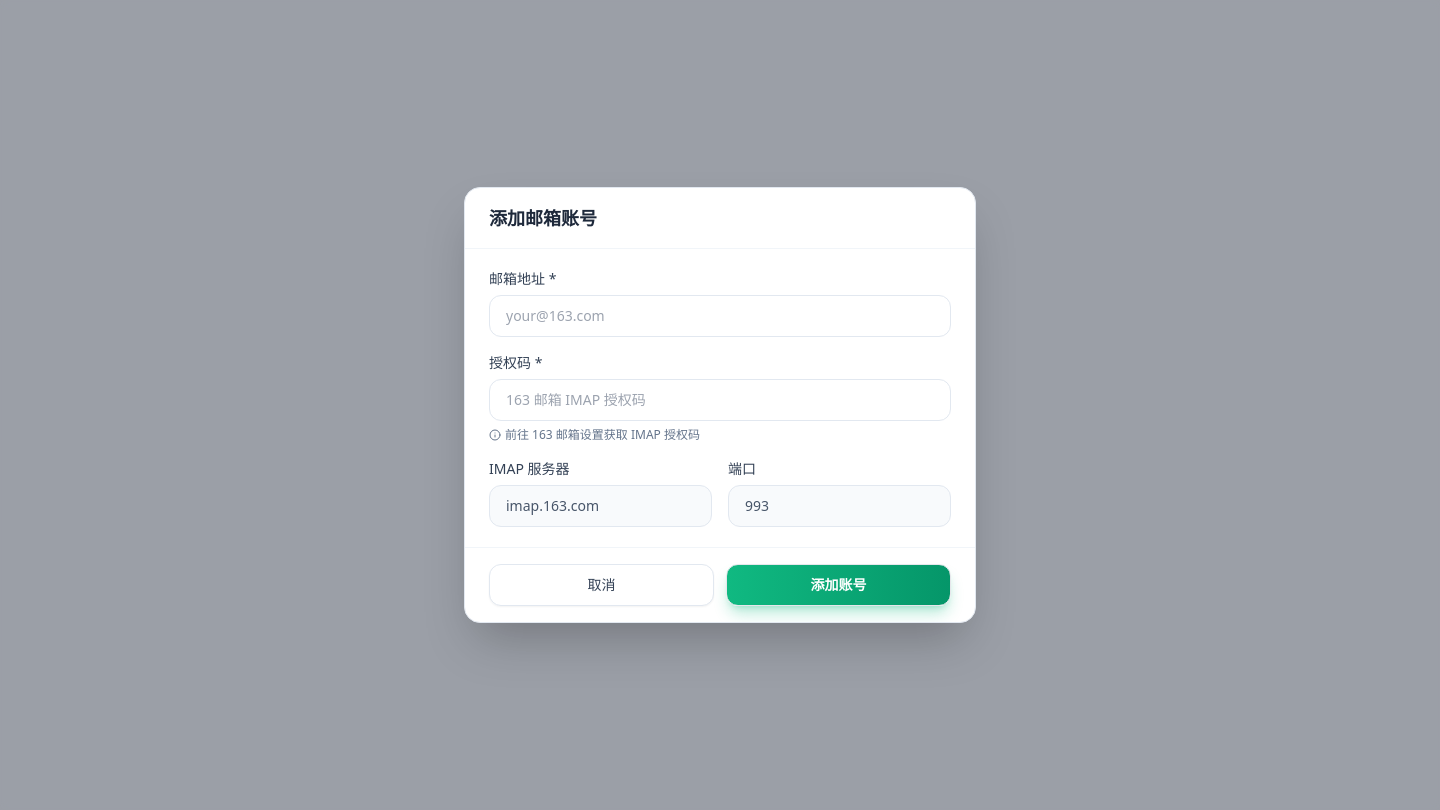
Test case: AddAccountModal › shows API errors without closing the modal
Type "dup@163.com" into the field labelled "邮箱地址 *" at (720, 316), box [489, 295, 951, 337]
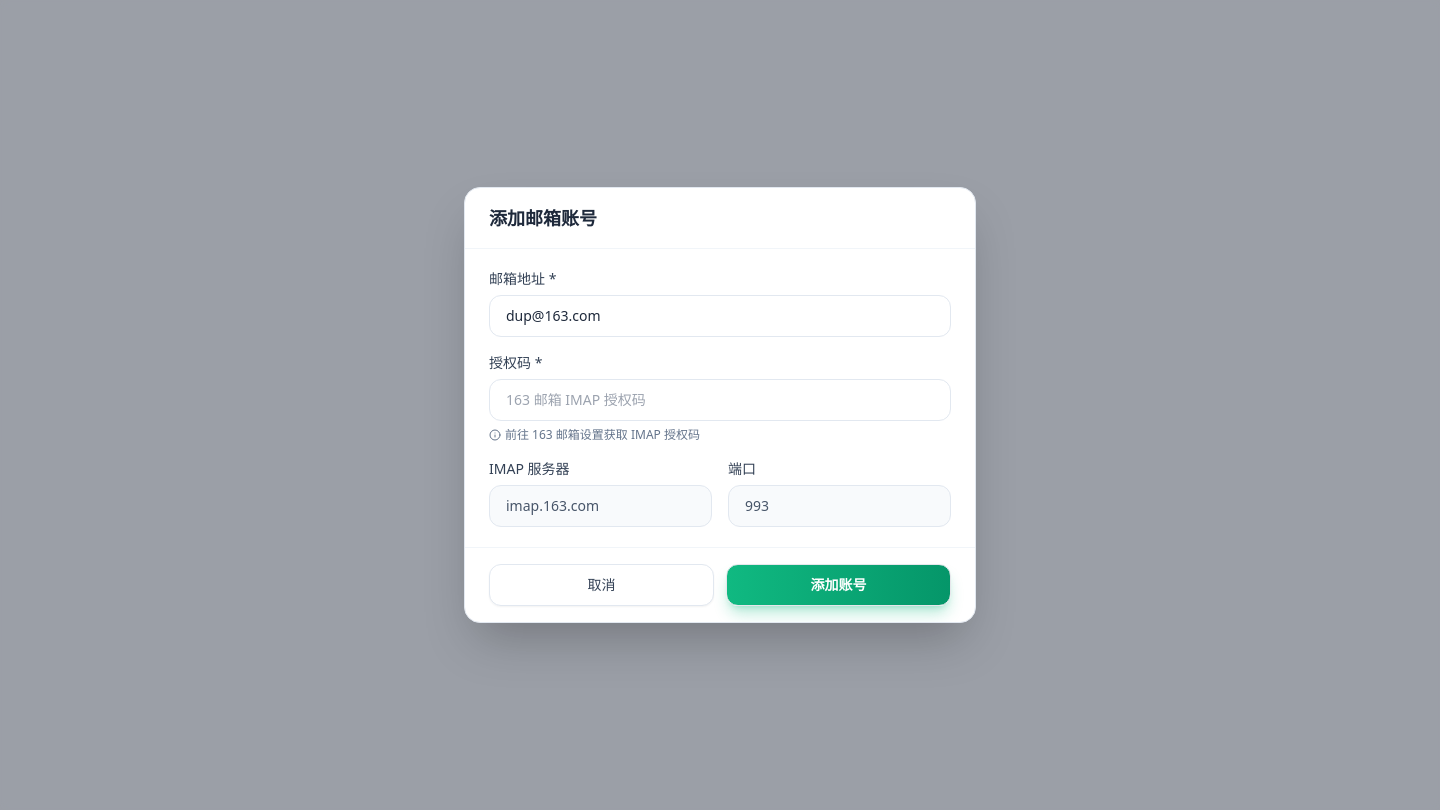
Type "auth-code" into the password field labelled "授权码 *" at (720, 400), box [489, 379, 951, 421]
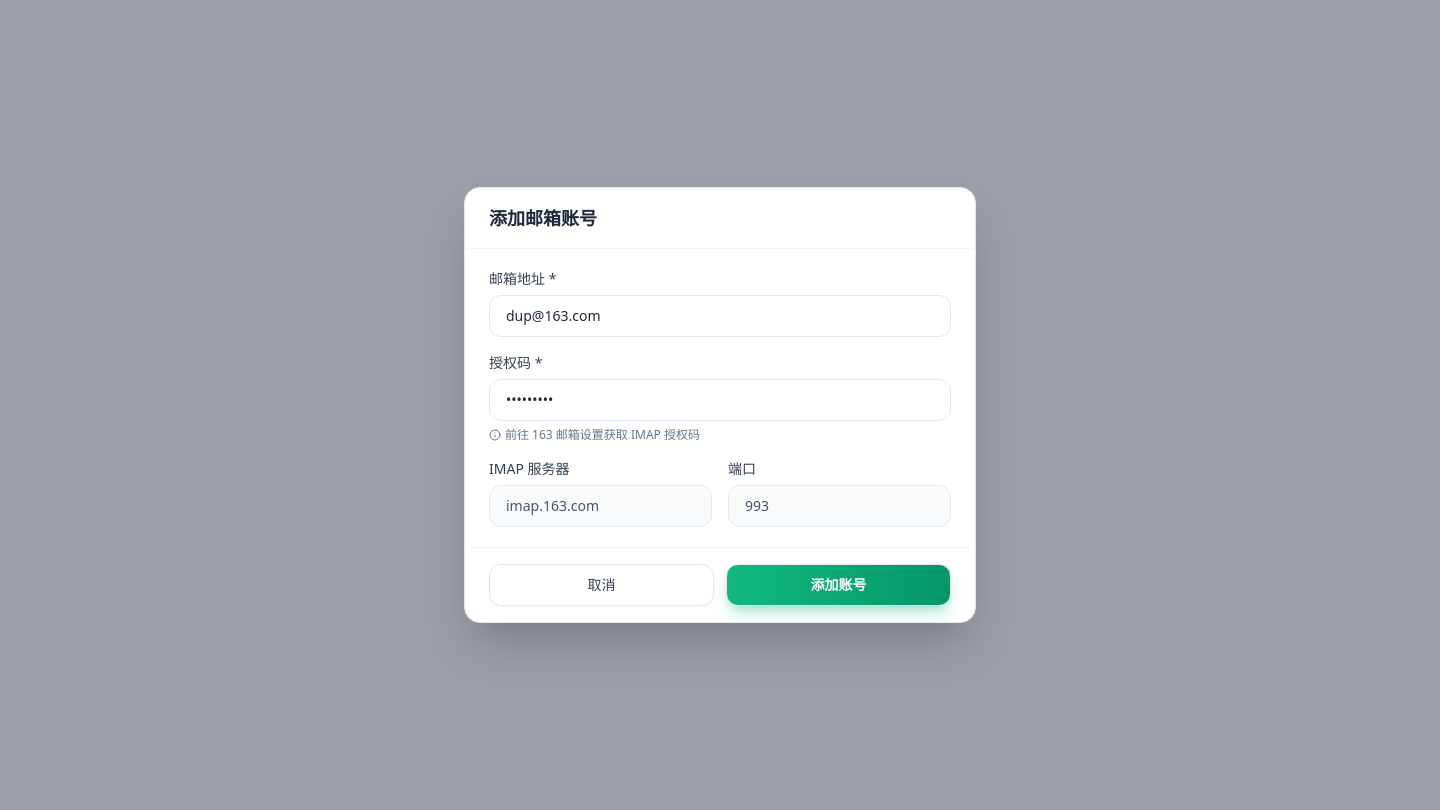
Click the button "添加账号" at (838, 585), box [726, 564, 951, 606]
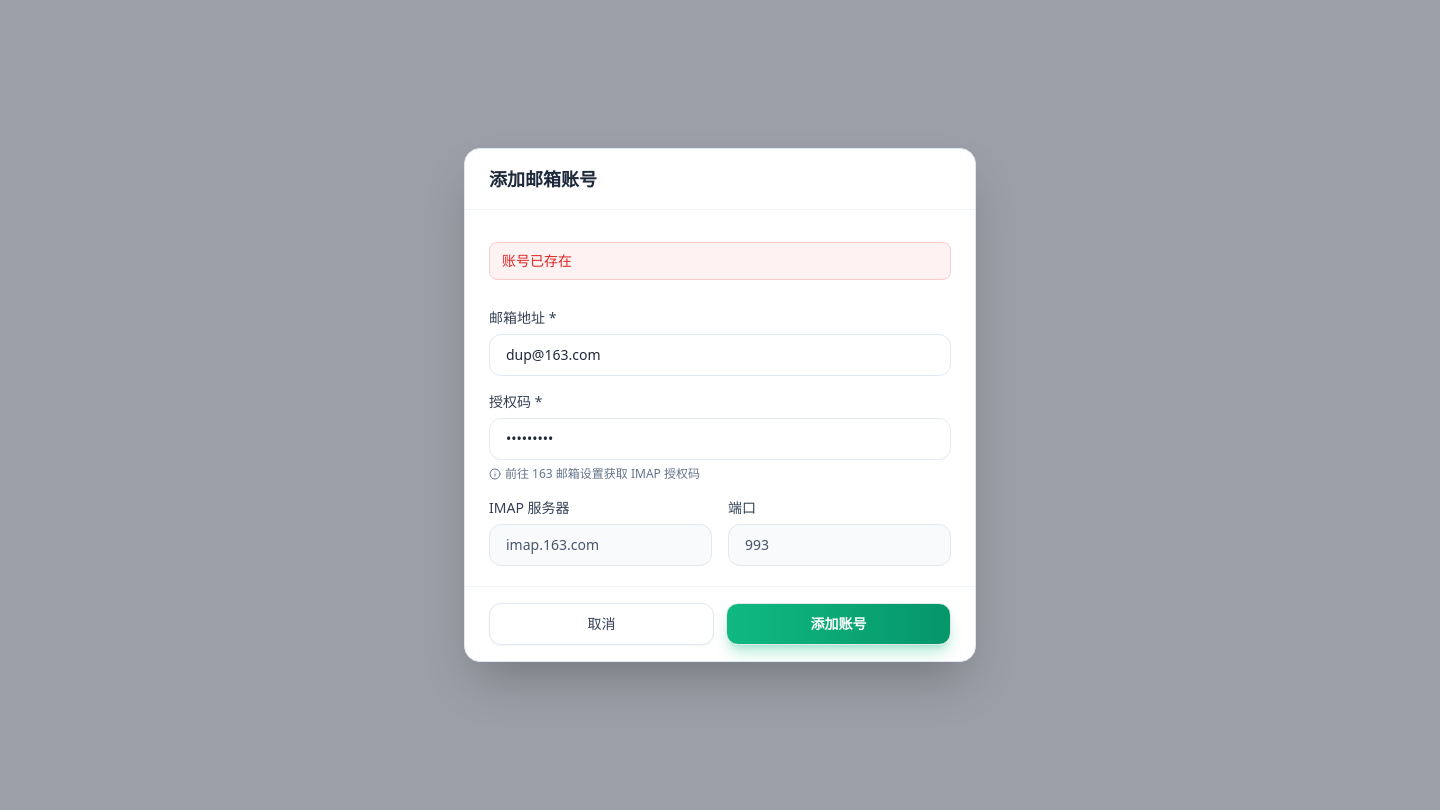
Result: the message reads "账号已存在" at [502, 251, 572, 270]
